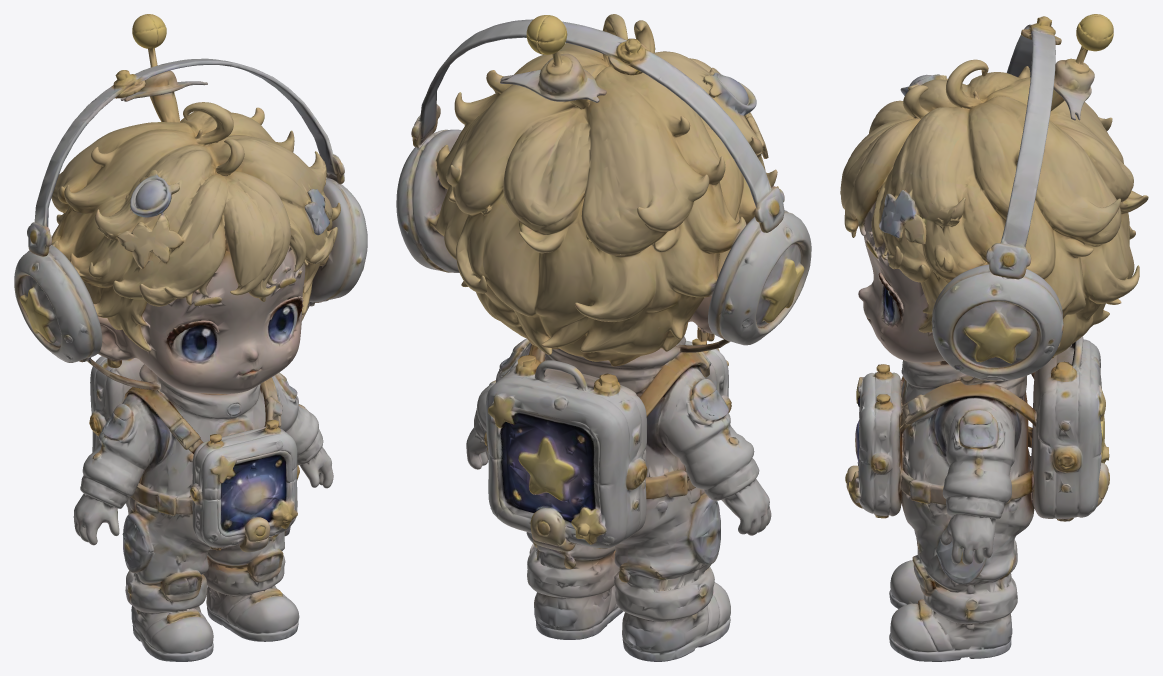
File: sc-cute-ip.glb
3 views of the same model, side by side, from view 1: azimuth 30°, elevation 25°; view 2: azimuth 150°, elevation 25°; view 3: azimuth 270°, elevation 25° (orthographic). The views are drawn at different scales.
Parts seen in each view (by area): view 1: tripo_node_17787988-0f10-4567-b8ca-20692d848fef; view 2: tripo_node_17787988-0f10-4567-b8ca-20692d848fef; view 3: tripo_node_17787988-0f10-4567-b8ca-20692d848fef.
Part boxes in pixels (left/top/right/bottom): tripo_node_17787988-0f10-4567-b8ca-20692d848fef: left=14, top=14, right=367, bottom=661; tripo_node_17787988-0f10-4567-b8ca-20692d848fef: left=396, top=14, right=811, bottom=661; tripo_node_17787988-0f10-4567-b8ca-20692d848fef: left=840, top=14, right=1148, bottom=661.
Size of the model in its own units: 0.5826 by 0.9773 by 0.4456.
Materials: 1 (1 with a texture image).
